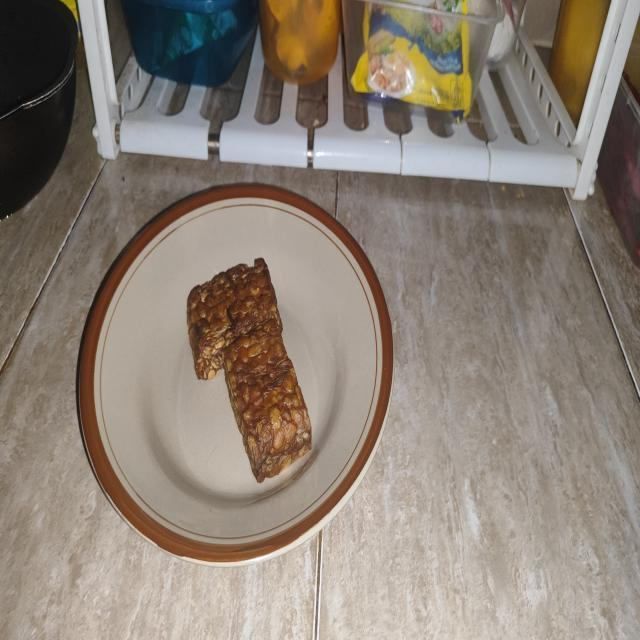tempe_goreng: (222, 317, 311, 482), (188, 258, 280, 379)
